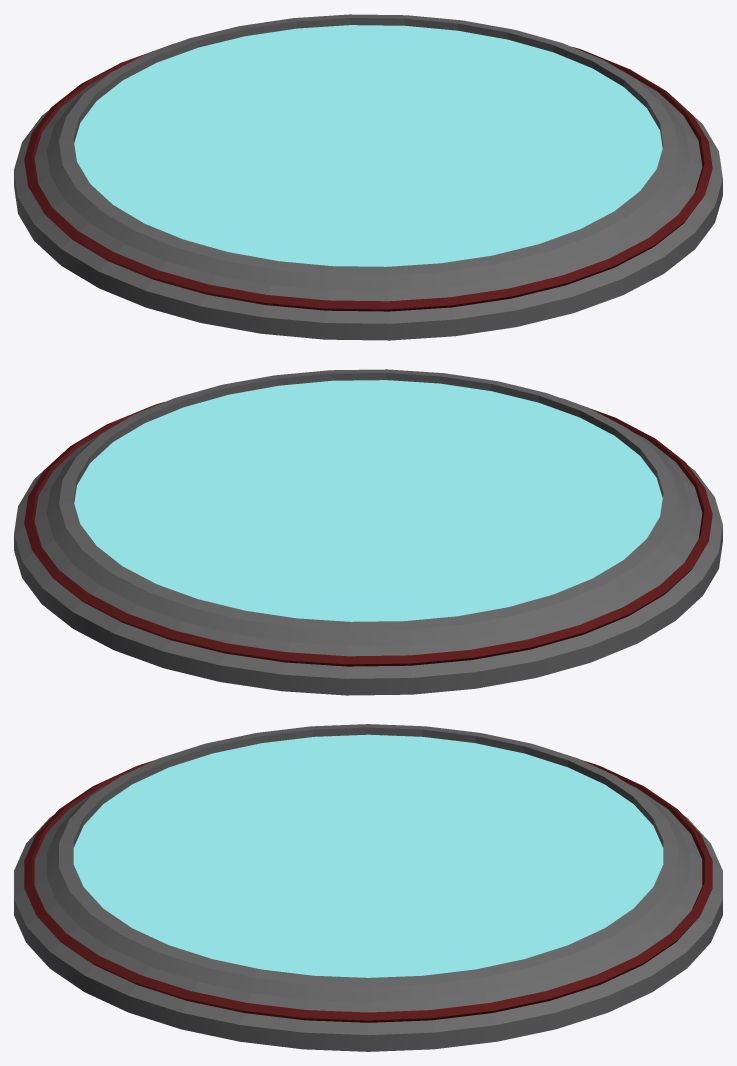
File: platform.FBX
The picture shows the model from 3 angles, top to bottom: view 1: azimuth 30°, elevation 25°; view 2: azimuth 150°, elevation 25°; view 3: azimuth 270°, elevation 25°; orthographic projection.
Parts seen in each view (by area): view 1: Cylinder001; view 2: Cylinder001; view 3: Cylinder001.
Boxes of the visible parts, x1=… form: Cylinder001: x1=14, y1=14, x2=722, y2=340; Cylinder001: x1=14, y1=369, x2=722, y2=695; Cylinder001: x1=14, y1=724, x2=722, y2=1051.
Size of the model in its own units: 90 by 6.79 by 89.62.
Materials: 1 (1 with a texture image).
